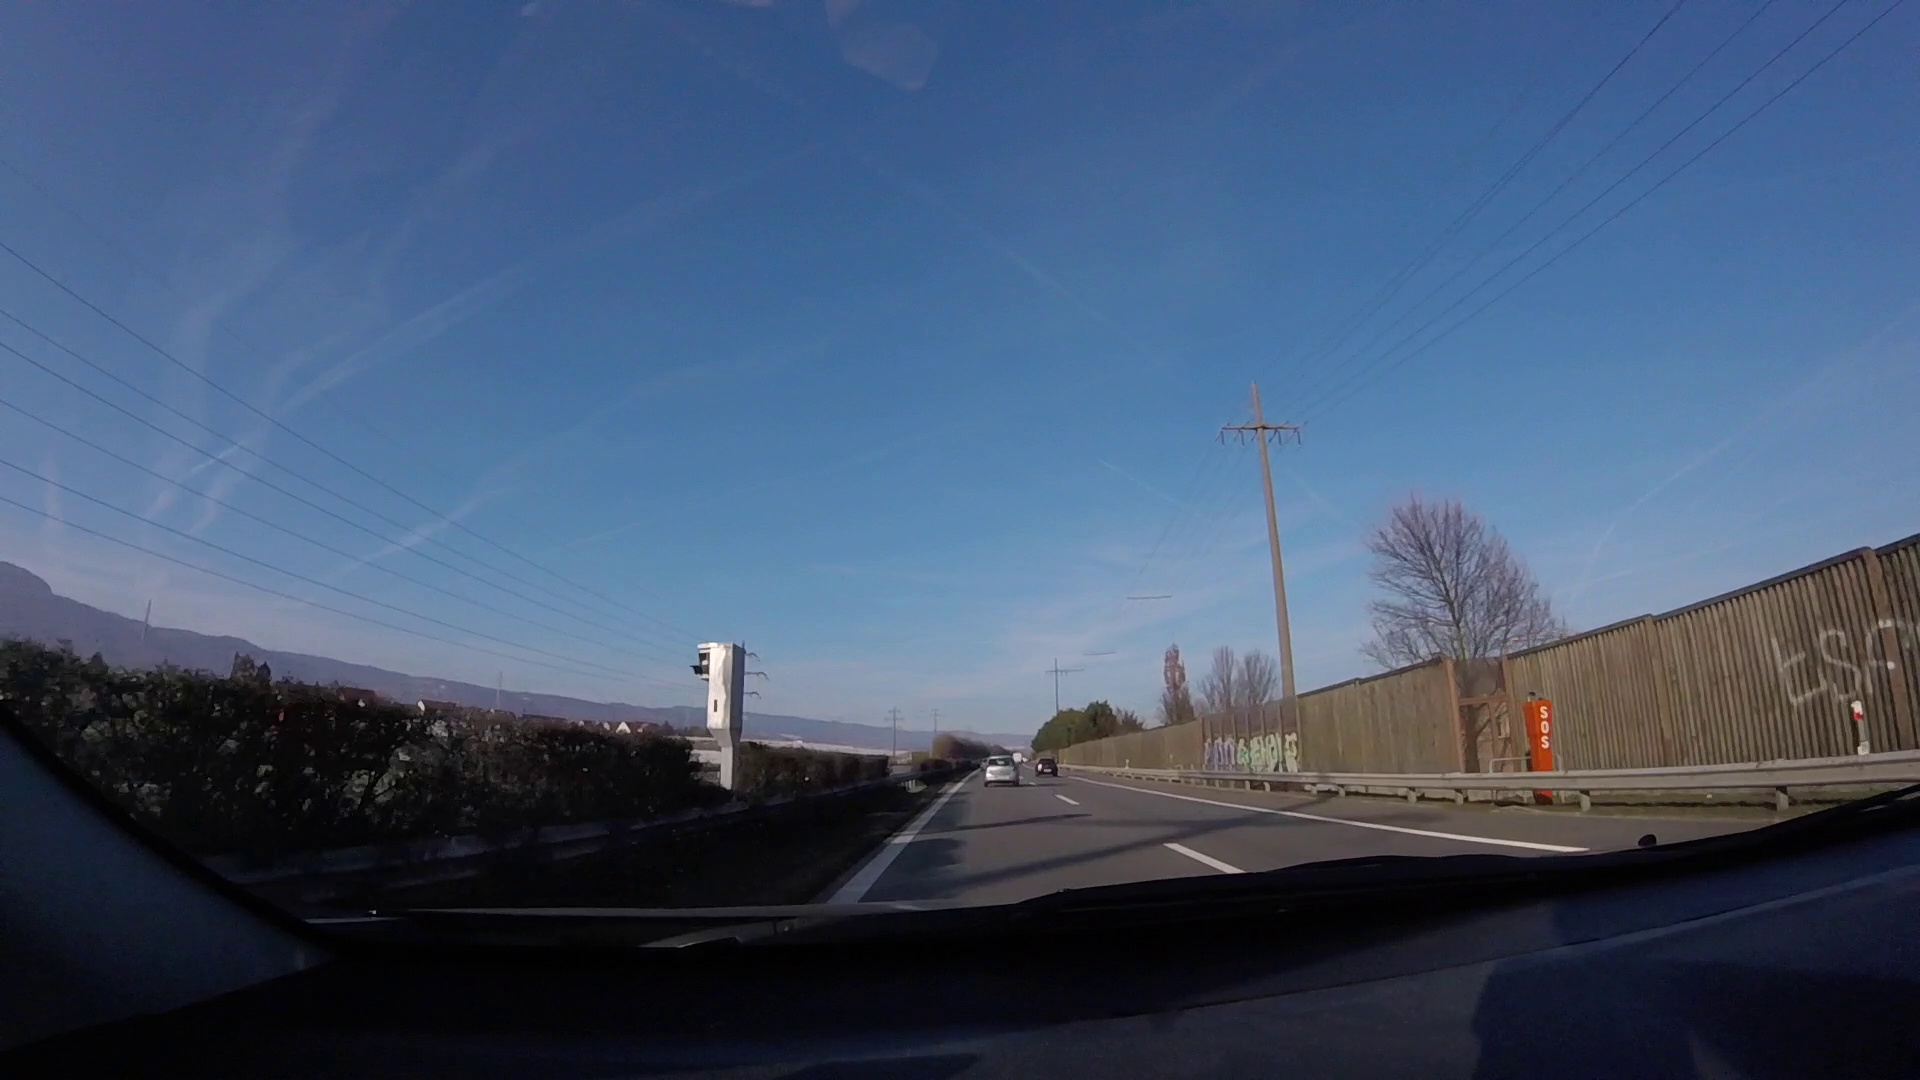radar: (690, 640, 750, 795)
